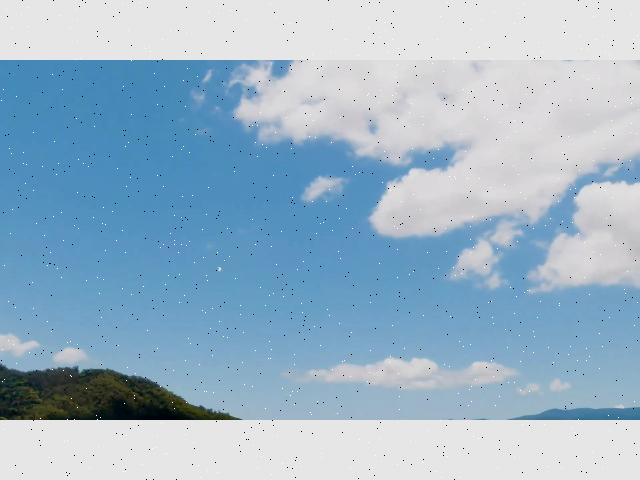Anti-Drone: (212, 259, 226, 277)
